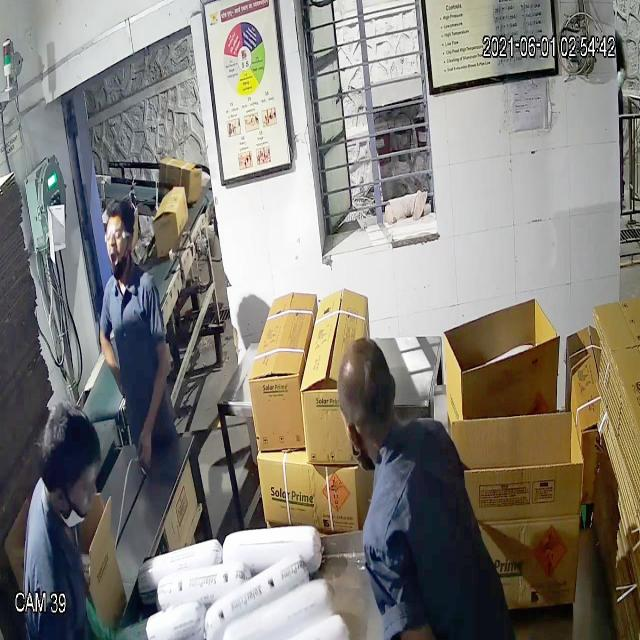glasses: (99, 220, 136, 253)
